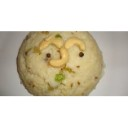venpongal: (18, 32, 105, 94)
